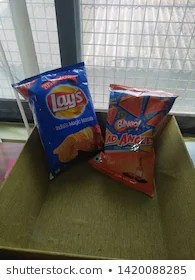lays-small: (9, 59, 102, 185)
